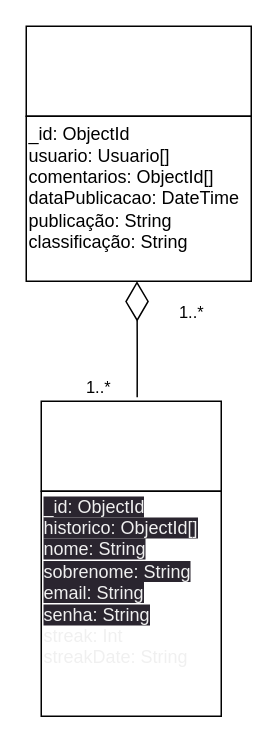
The diagram is 278 pixels wide and 743 high, and some of its shapes have lost their labels. The centre of each missing label's shape, as x and y in pixels:
"Post" belongs at (x=138, y=70).
"Usuario" belongs at (x=130, y=445).
